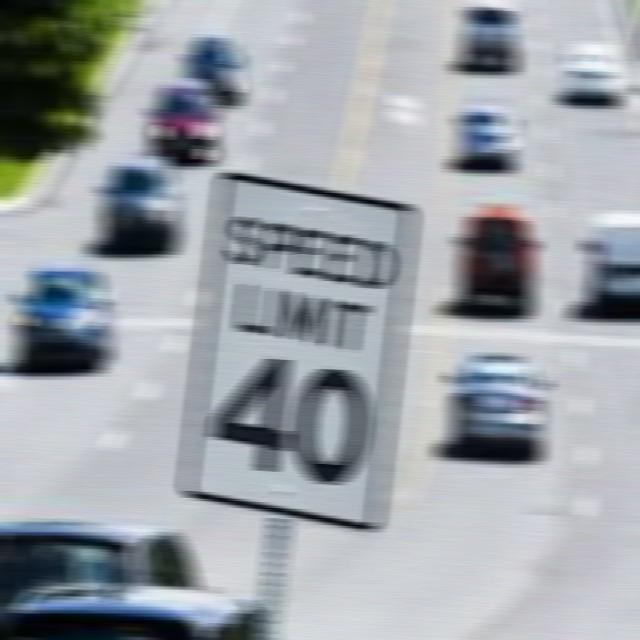speedLimit40: (174, 169, 420, 536)
